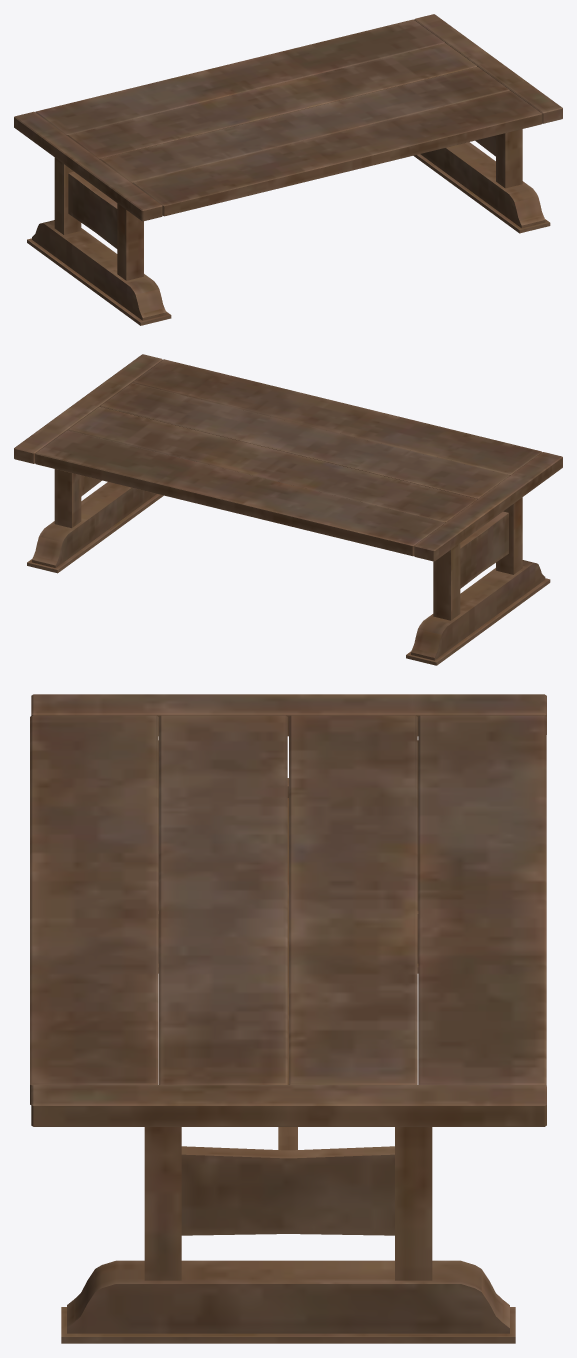
The model's file is SM_Rectangular_Table_f5c4bf.glb.
3 views of the same model, one above another, from view 1: azimuth 30°, elevation 25°; view 2: azimuth 150°, elevation 25°; view 3: azimuth 270°, elevation 25° (orthographic). The views are drawn at different scales.
Bounding box in the file's own units: 2.88 × 0.7996 × 1.53.
1 material, 1 textured.
